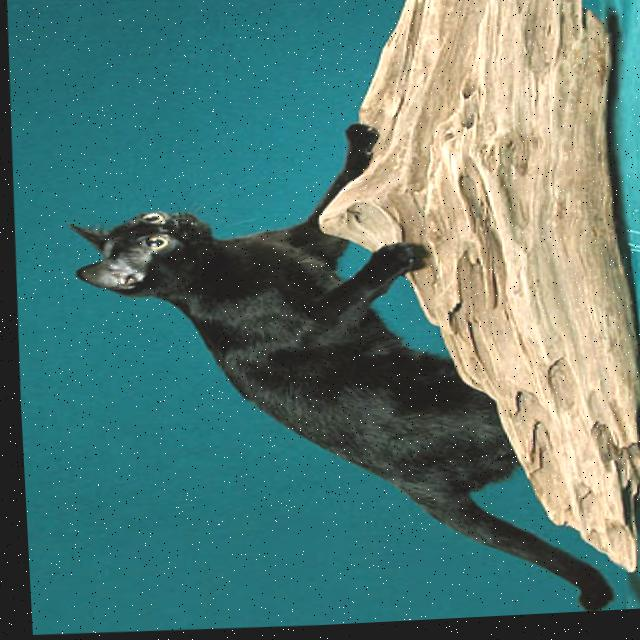Bombay: (48, 110, 618, 638)
